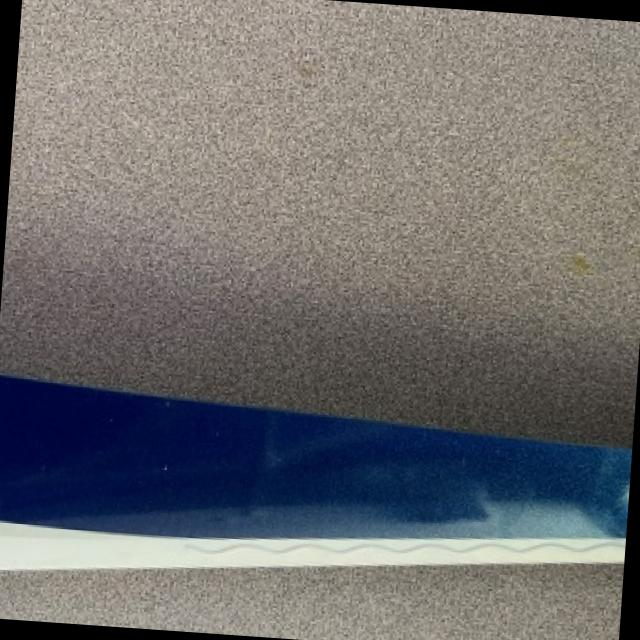healthy: (0, 375, 630, 566), (0, 566, 621, 640)
